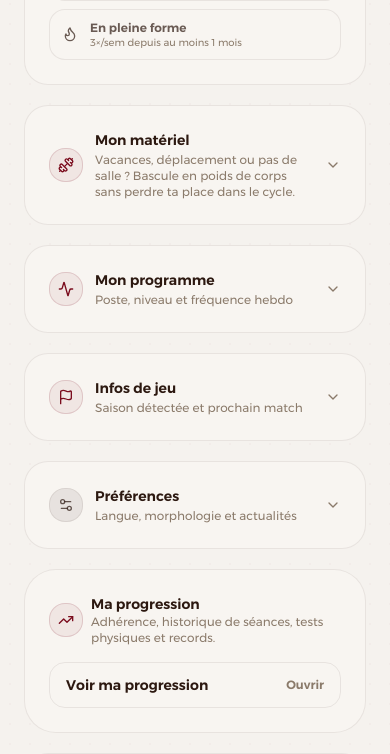
Test: ProfilePage · Ma situation › displays "Phase finale" when annual context detects playoffs
(page scrolled)
Click the button "Infos de jeu Saison détectée et prochain match".
click(195, 397)  # box [25,354,365,440]
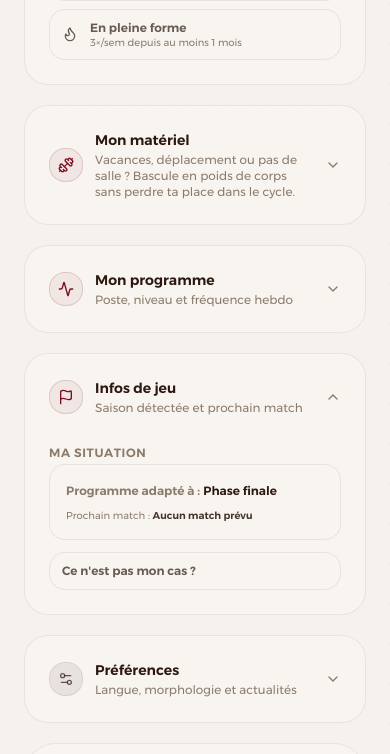
Expected: the text with test id "situation-cycle" reads "Phase finale", [203,483,277,498]
